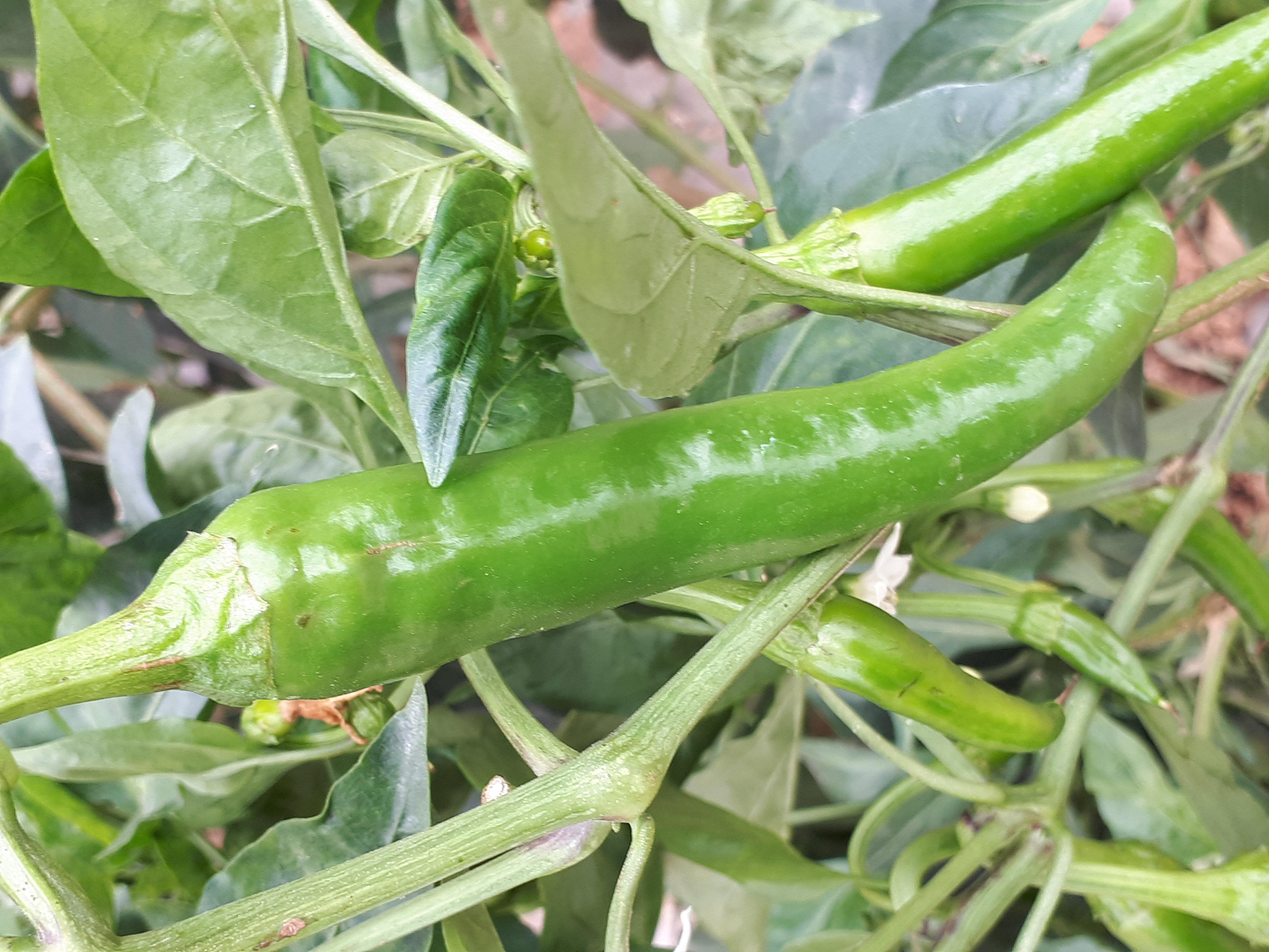Buah Cabai Sehat: (149, 188, 1188, 713)
Daun Cabai Sehat: (30, 0, 400, 438)
